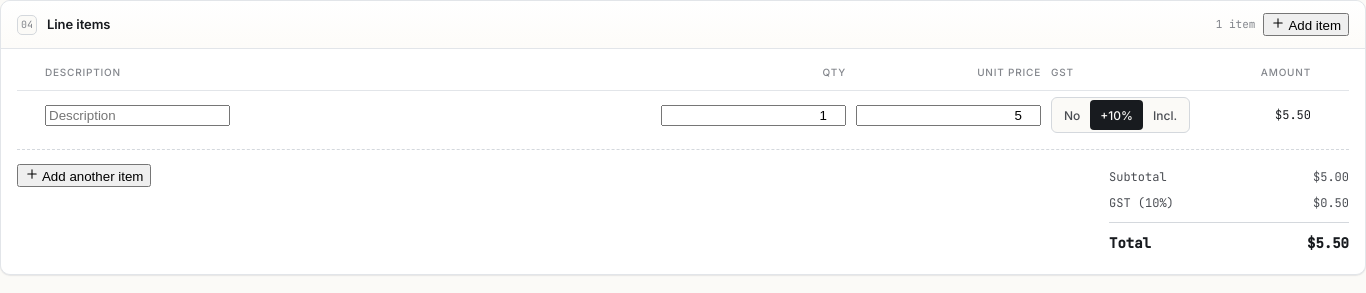
Scenario: ItemForm › shows a zero price as an empty field once it loses focus
This screenshot has width=1366, height=293.
Replace the text in the 2nd number field named "Item 1 Price" with "0" at (948, 116), box [856, 105, 1041, 126]
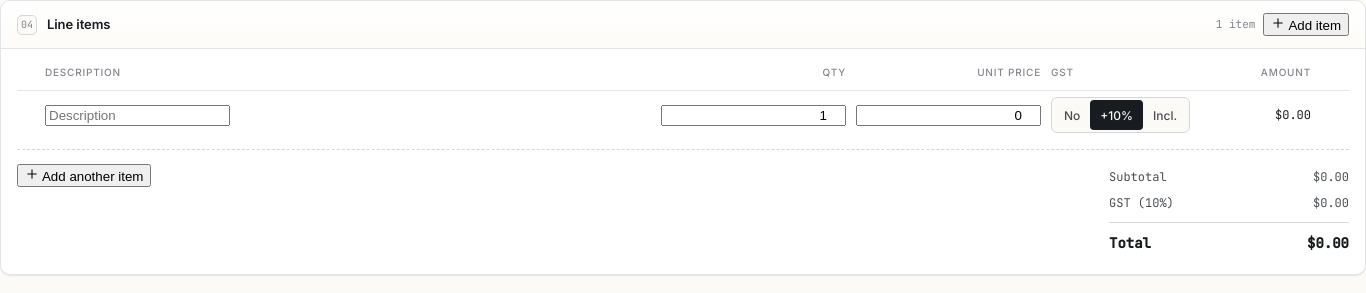
Leave the 2nd number field named "Item 1 Price", box [856, 105, 1041, 126]
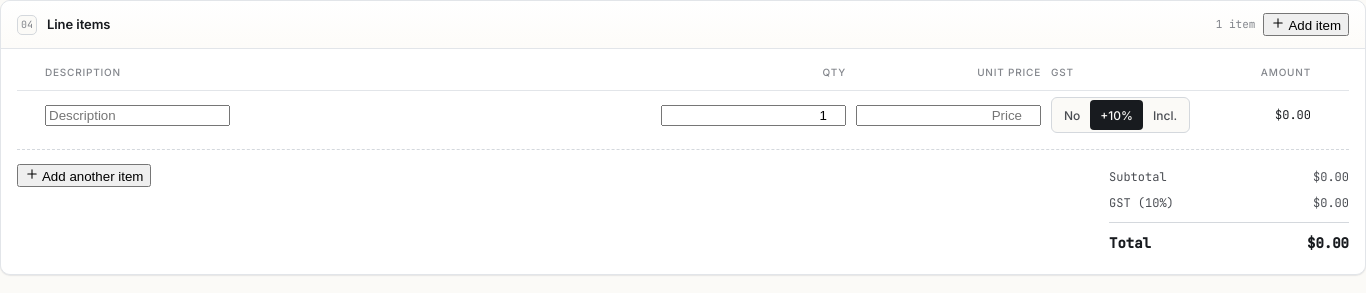
Now the number field named "Item 1 Price" is not empty, box [856, 105, 1041, 126]
